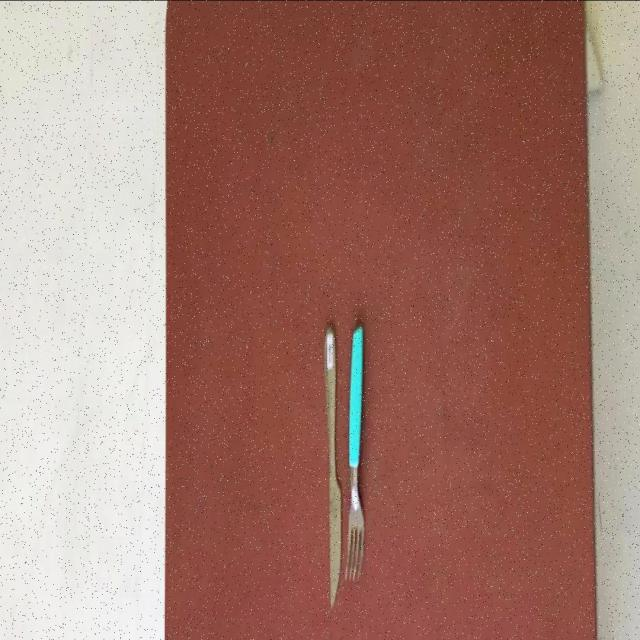Fork: (344, 325, 364, 585)
Knife: (322, 325, 342, 613)
